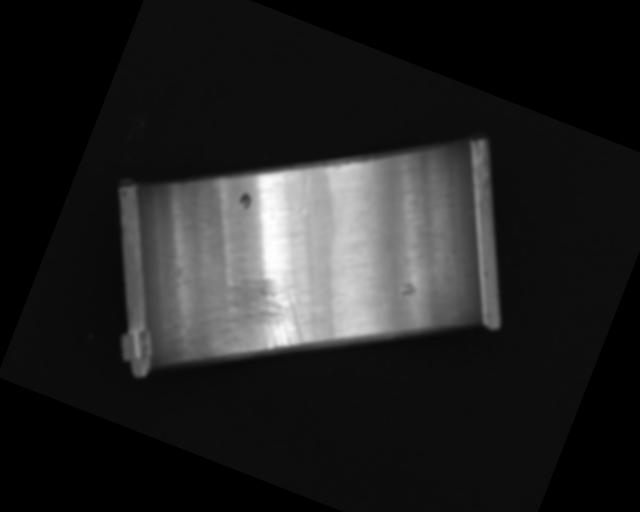blot: (236, 189, 253, 211)
bruise: (396, 280, 418, 303)
nick: (293, 170, 321, 216)
scratch: (185, 254, 322, 396)
